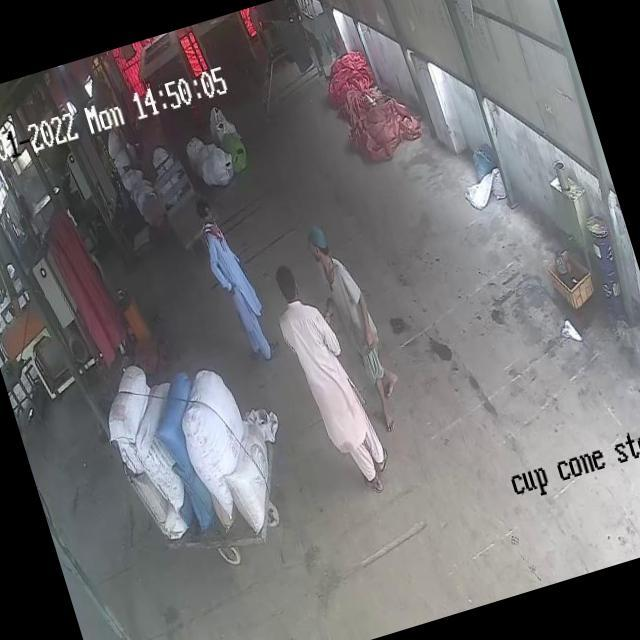person: (266, 248, 394, 497), (306, 215, 406, 417), (192, 192, 272, 358)
